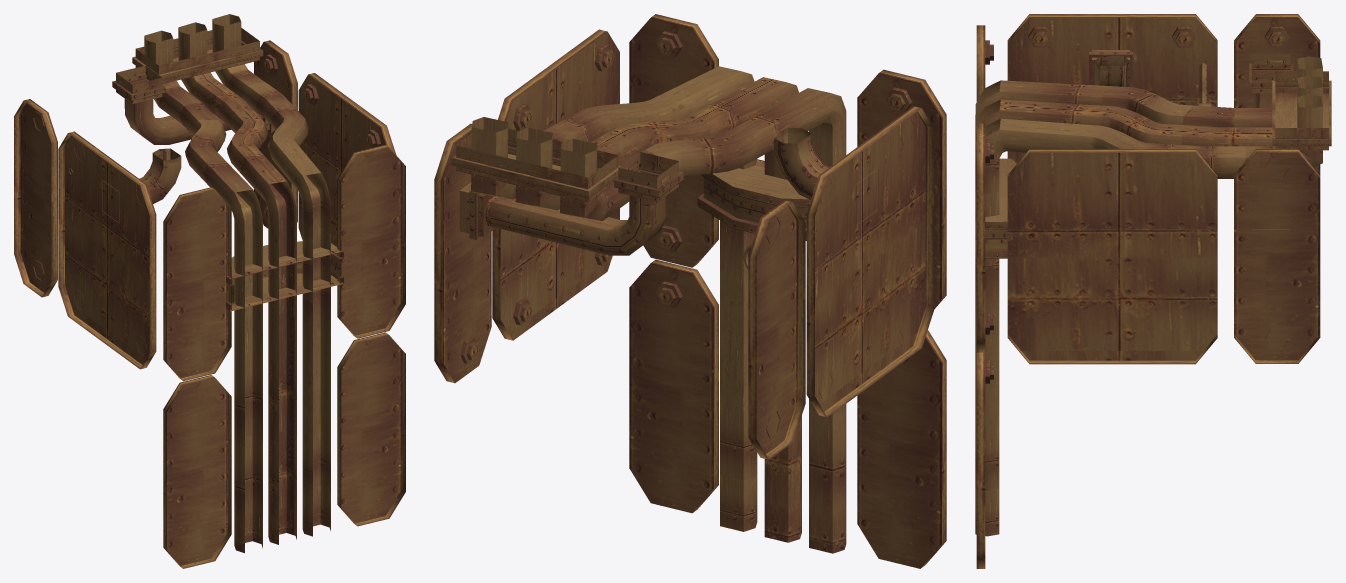
Rendered from SteamHouse_indoor.fbx.
3 renders of one model, left to right at view 1: azimuth 30°, elevation 25°; view 2: azimuth 150°, elevation 25°; view 3: azimuth 270°, elevation 25°, orthographic. The views are drawn at different scales.
Visible parts, largest first — view 1: SteamHouse_indoor; view 2: SteamHouse_indoor; view 3: SteamHouse_indoor.
Part boxes in pixels (x1,y1,x2,y2): SteamHouse_indoor: (14, 14, 405, 568); SteamHouse_indoor: (434, 14, 946, 568); SteamHouse_indoor: (975, 14, 1331, 568).
Bounding box in the file's own units: 30.63 × 47.08 × 33.26.
